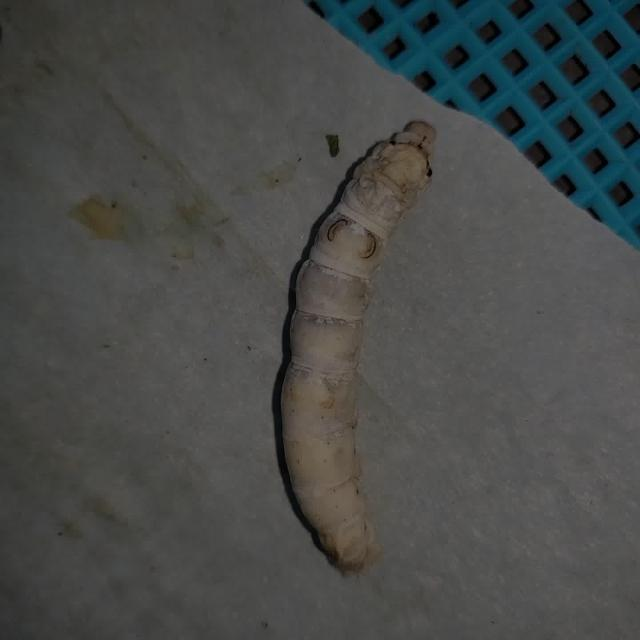Grasserie: (268, 77, 478, 604)
